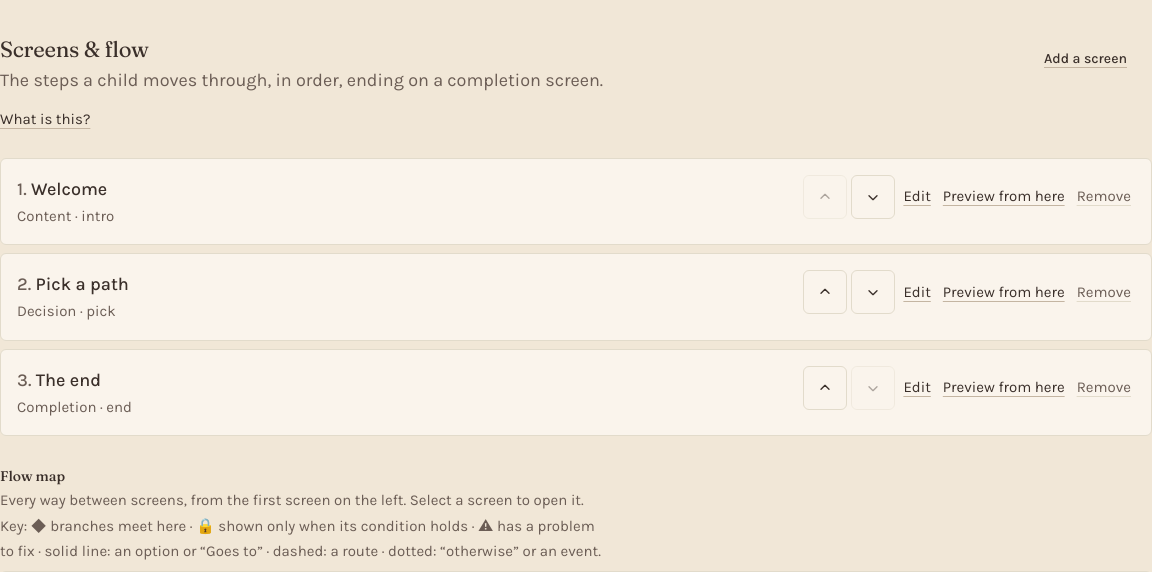
Test case: unsaved changes are never lost silently (D-118) › a failed save keeps the content marked unsaved
Click the button "Edit" in the row of "intro" at (917, 197), box [899,175,935,219]
(page scrolled)
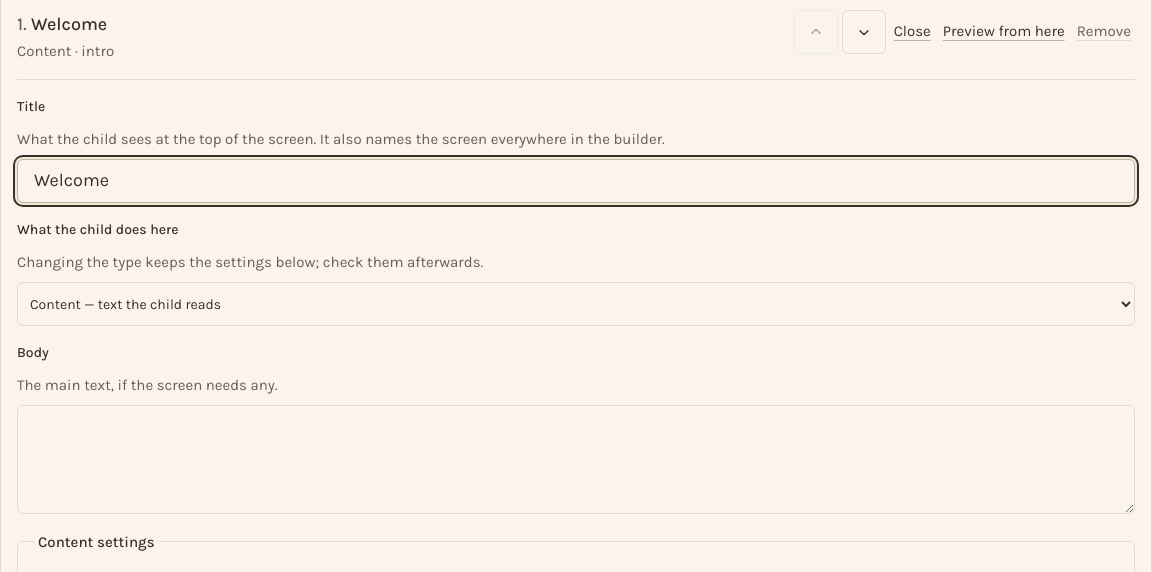
Replace the text in the field labelled "Title" with "Will fail" at (576, 181), box [17,159,1135,203]
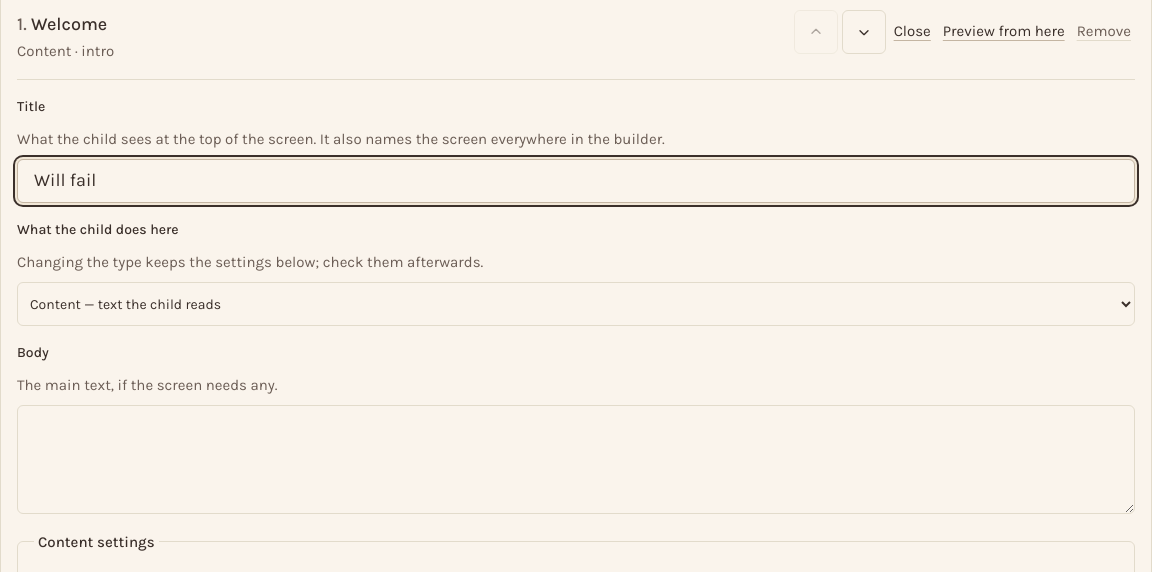
Type "Typed before a failed save" into the text box labelled "Body" at (576, 459), box [17,405,1135,514]
(page scrolled)
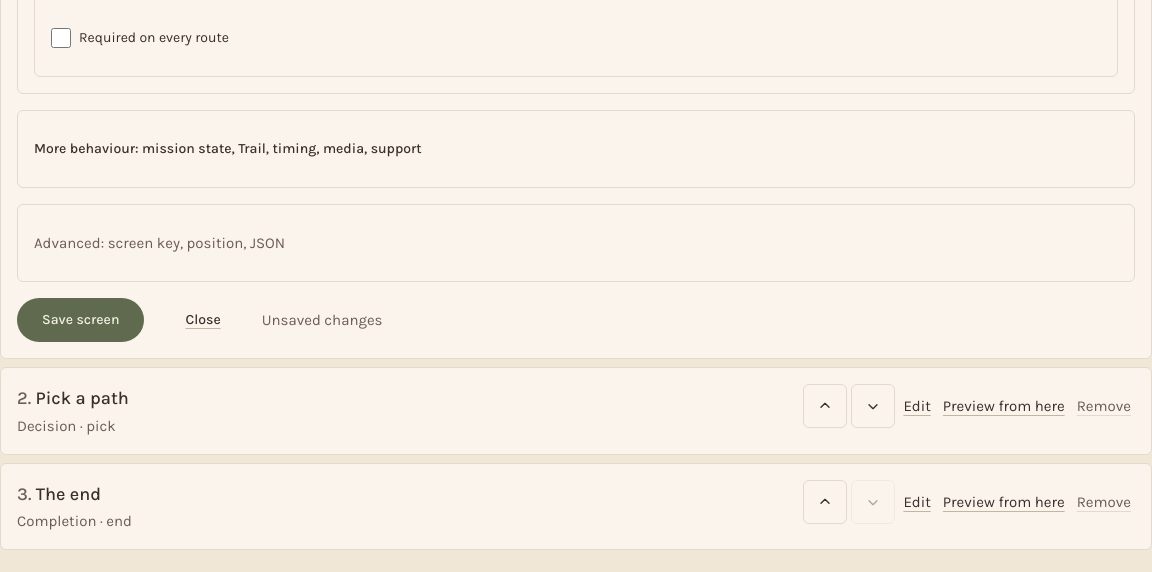
Click the button "Save screen" at (81, 320), box [17,298,144,342]
(page scrolled)
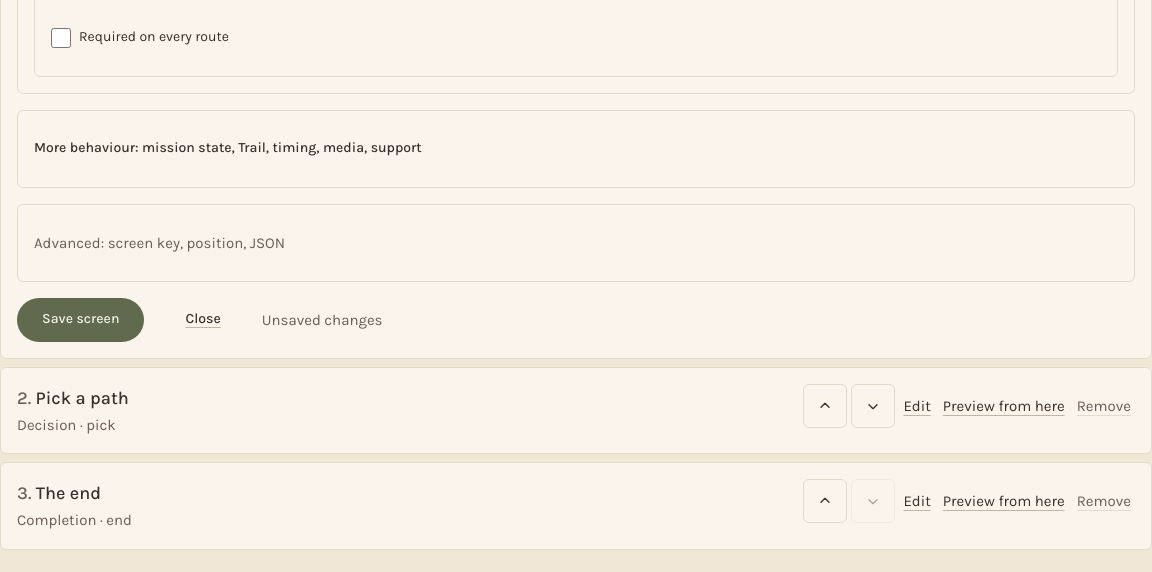
Now the text "Unsaved changes" is shown, box [262,308,382,332]
Click the 1st button "Edit" at (917, 406), box [899,384,935,428]
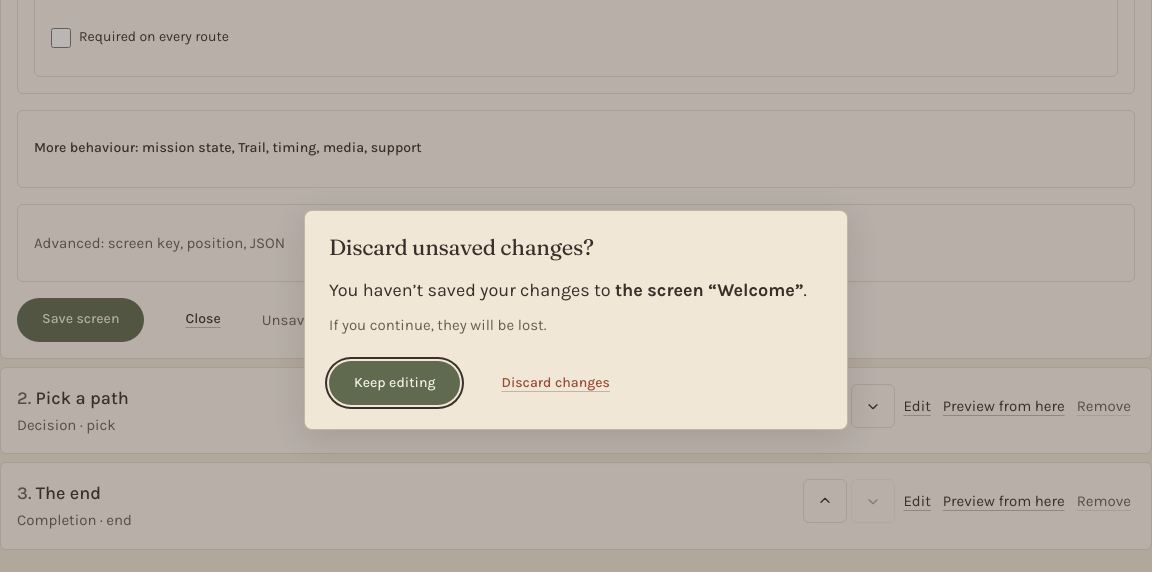
Now the dialog "Discard unsaved changes?" is shown, box [304,210,848,430]
